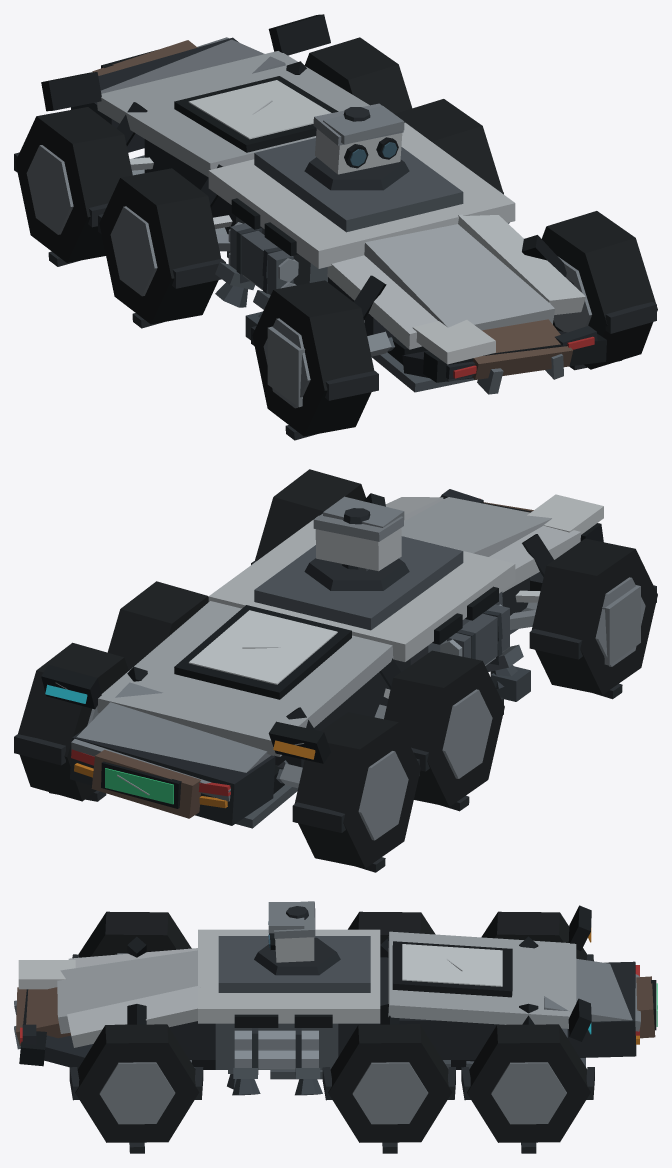
Rendered from r47xs_recon_rover_d1_lod2.glb.
3 views of the same model, one above another, from view 1: azimuth 30°, elevation 25°; view 2: azimuth 150°, elevation 25°; view 3: azimuth 270°, elevation 25° (orthographic). The views are drawn at different scales.
Visible parts, largest first — view 1: ROVER_STATIC_BODY; view 2: ROVER_STATIC_BODY; view 3: ROVER_STATIC_BODY.
Part boxes in pixels (x1,y1,x2,y2): ROVER_STATIC_BODY: (14,14,657,440); ROVER_STATIC_BODY: (14,469,657,872); ROVER_STATIC_BODY: (14,901,657,1153).
Bounding box in the file's own units: 2.39 × 1.44 × 4.74.
